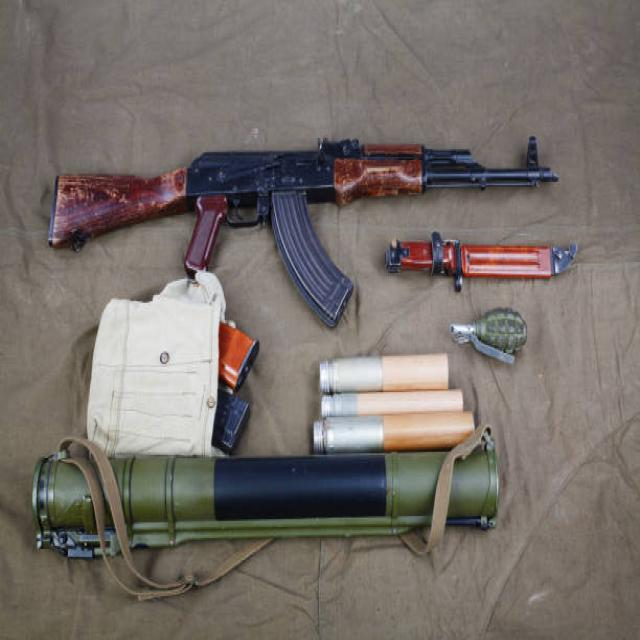grenade: (445, 305, 535, 372)
